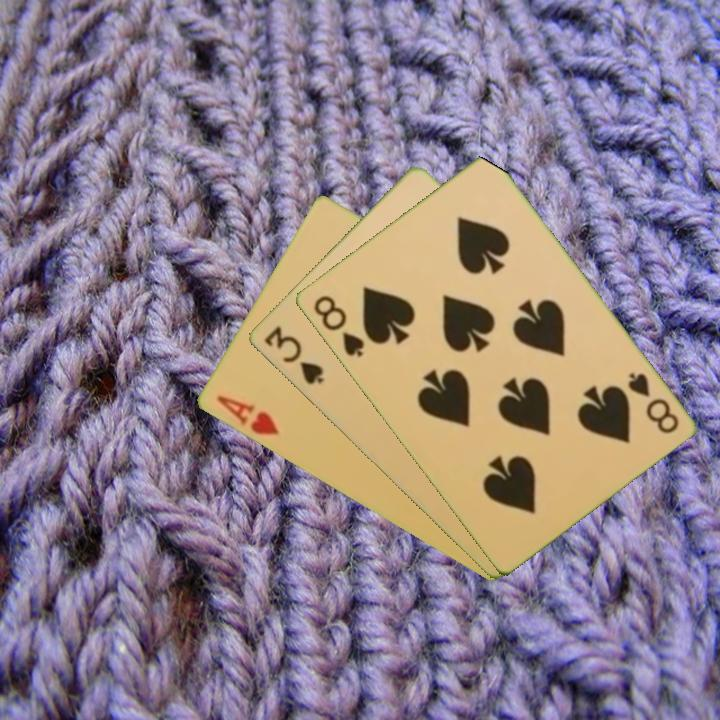3s: (259, 322, 327, 388)
8s: (309, 291, 367, 360), (623, 368, 681, 437)
Ah: (212, 392, 282, 439)
